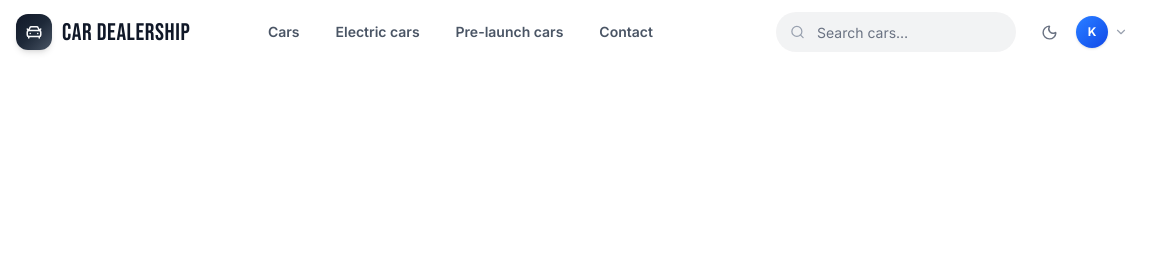
Test: Navbar › logs out from the account menu
Click the button named "account" at (1104, 32), box left=1072, top=12, right=1136, bottom=52
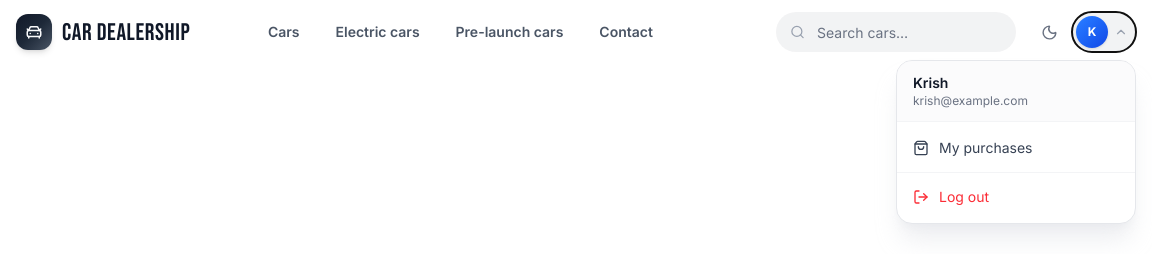
Click the button "Log out" at (1016, 197), box left=897, top=177, right=1135, bottom=217
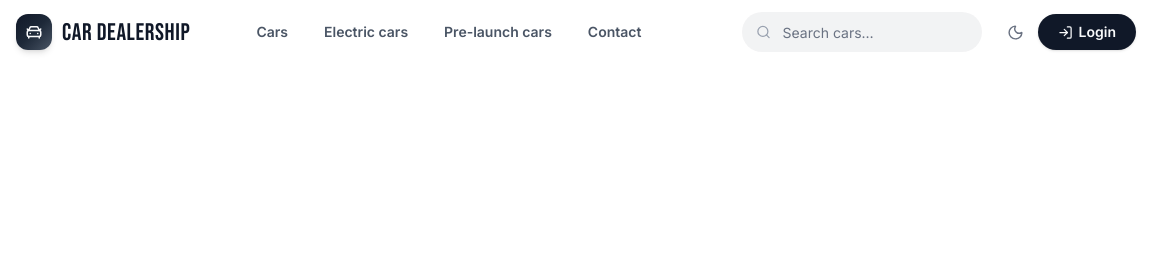
expect the link "Login" is shown: met, box left=1038, top=14, right=1136, bottom=50
